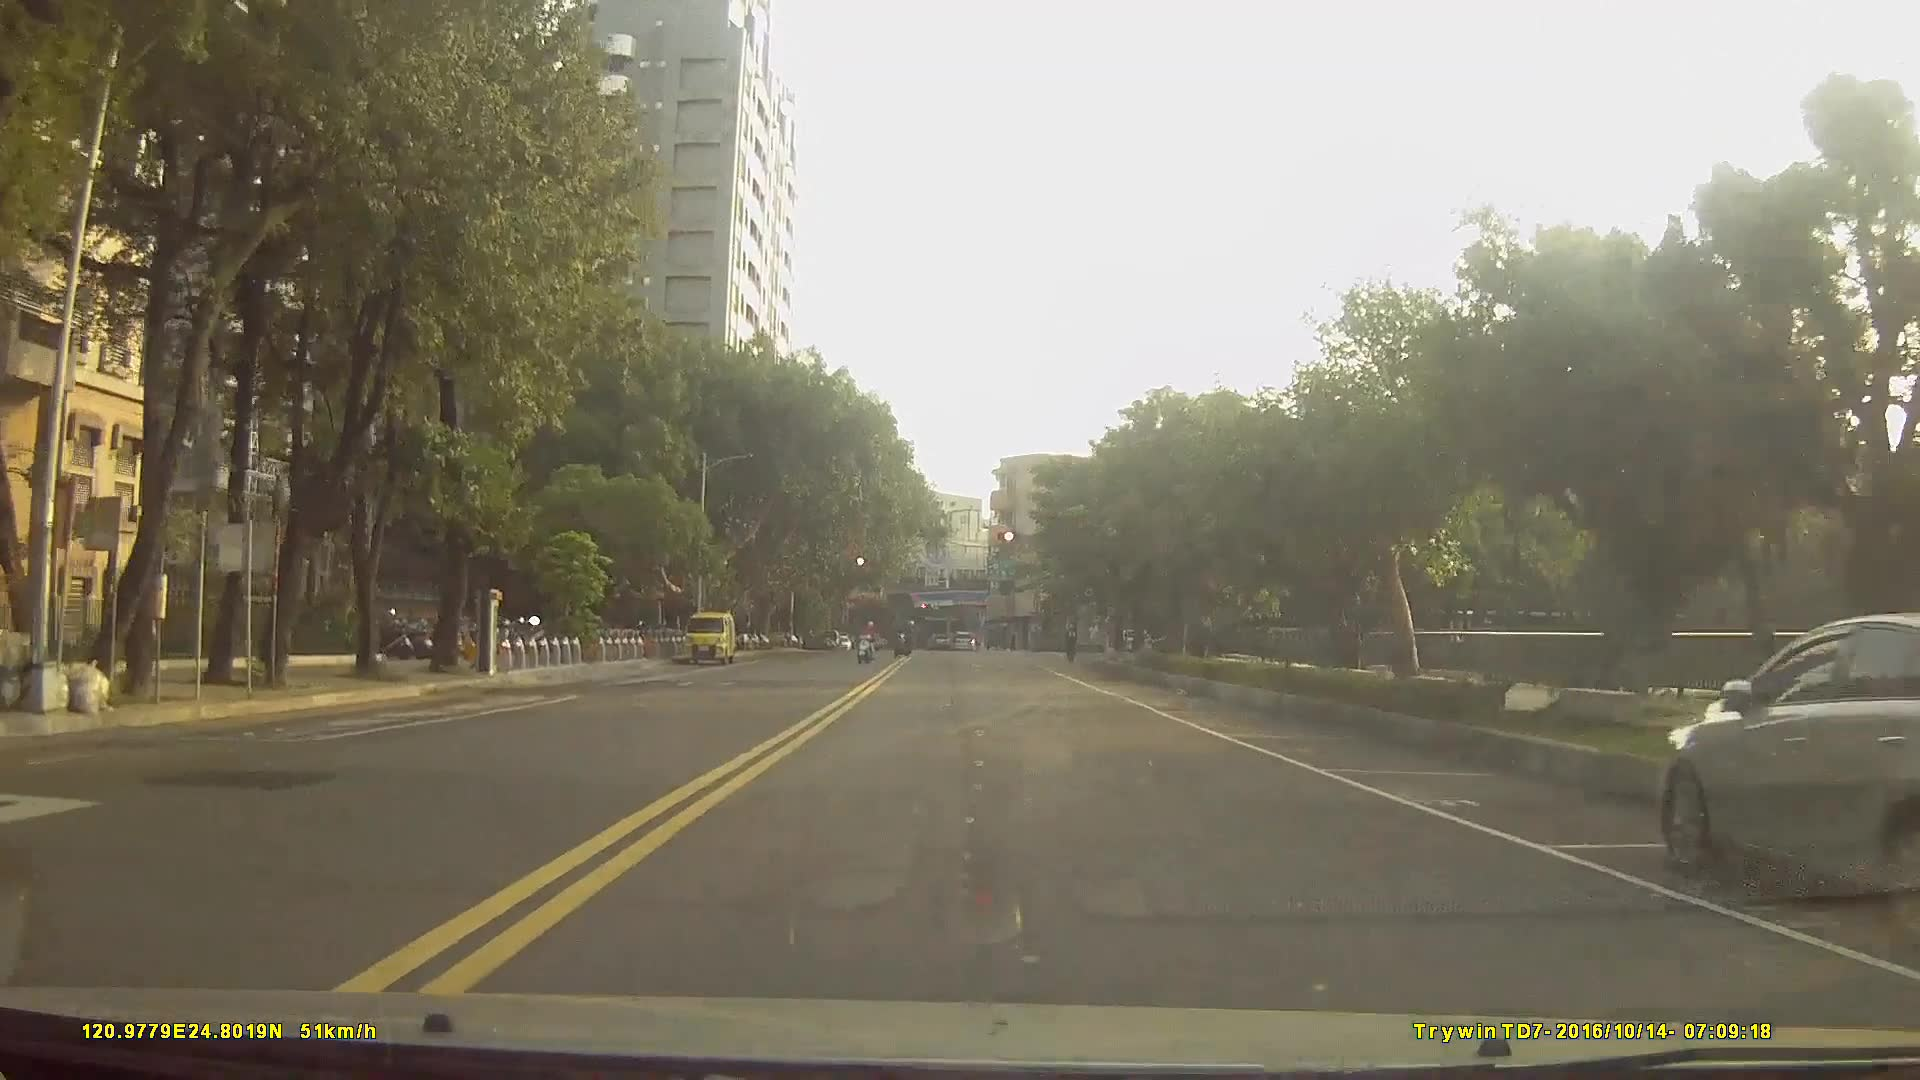pedestrian: (1086, 616, 1106, 658)
rider: (854, 617, 883, 665), (893, 618, 916, 660)
vehicle: (1658, 606, 1920, 961), (948, 628, 977, 652)
